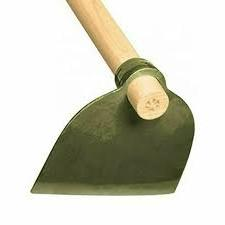HOUE: (7, 0, 210, 208)
